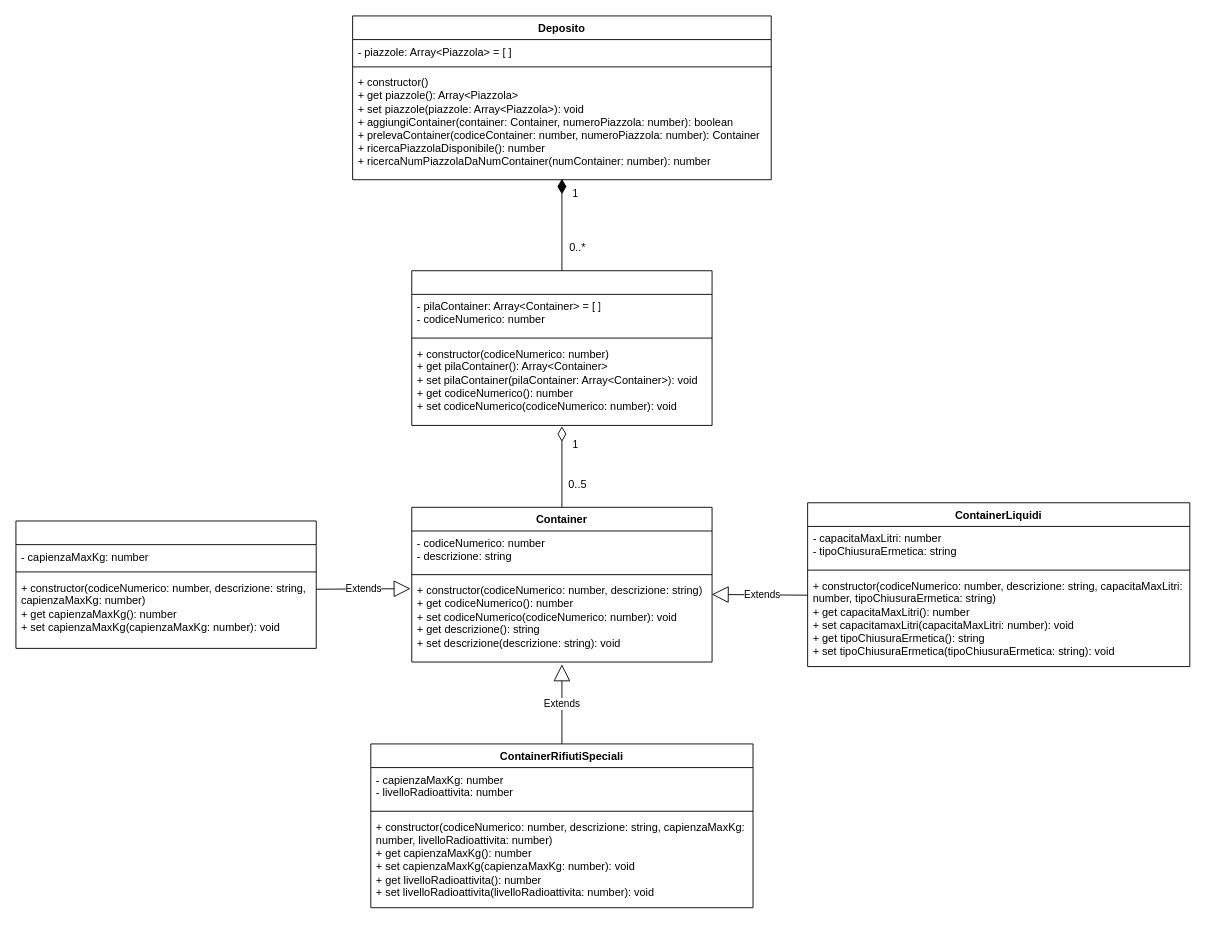
The diagram is 1206 pixels wide and 926 high, and some of its shapes have lost their labels. Here are the shapes that lost their labels. From the top down, the box of each, then its label:
(411, 270, 712, 425): Piazzola
(15, 520, 316, 648): ContainerSolidi
